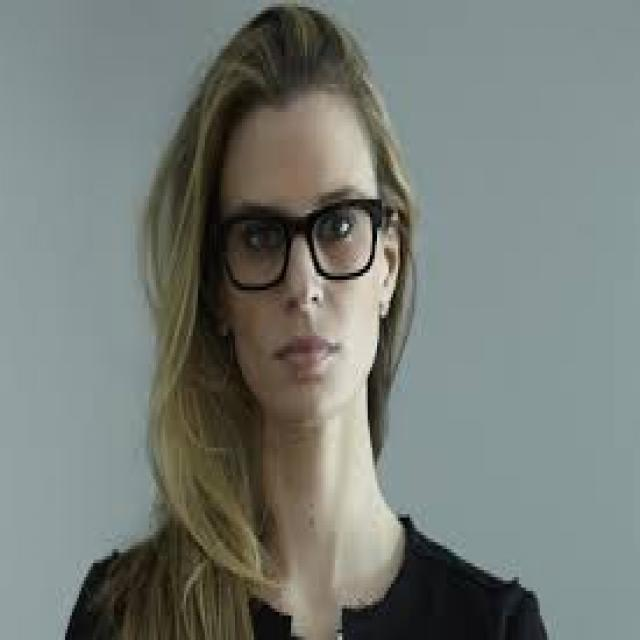Glasses: (210, 178, 387, 297)
